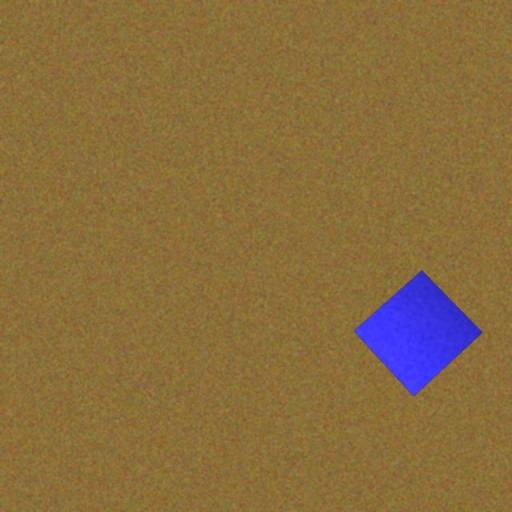BLUE_SQUARE: (353, 270, 483, 398)
